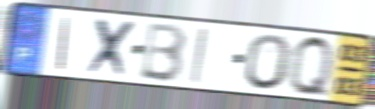B: (137, 21, 189, 84)
I: (188, 26, 209, 86), (55, 15, 72, 72)
O: (243, 32, 292, 92)
Q: (288, 32, 334, 101)
X: (84, 16, 141, 80)
